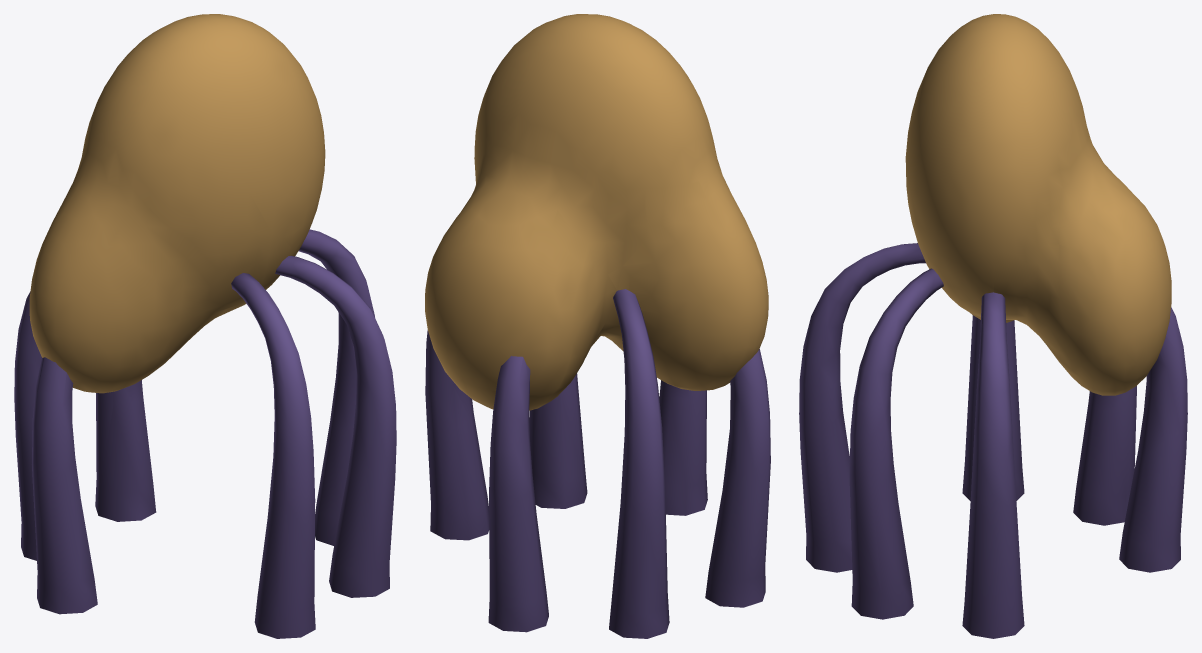
File: space-tree-blob.glb
The picture shows the model from 3 angles, left to right: view 1: azimuth 30°, elevation 25°; view 2: azimuth 150°, elevation 25°; view 3: azimuth 270°, elevation 25°; orthographic projection.
Visible parts, largest first — view 1: space-tree-blob; view 2: space-tree-blob; view 3: space-tree-blob.
Boxes of the visible parts, <box> form: space-tree-blob: <box>14,14,396,638</box>; space-tree-blob: <box>425,14,770,638</box>; space-tree-blob: <box>799,14,1187,638</box>.
Size of the model in its own units: 2.1 by 3.2 by 2.1.
